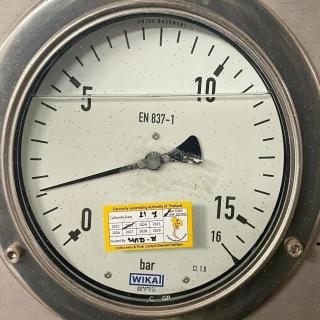gauge: (0, 0, 320, 320), (60, 215, 92, 249), (209, 230, 236, 260), (143, 150, 165, 172), (36, 185, 50, 195)
